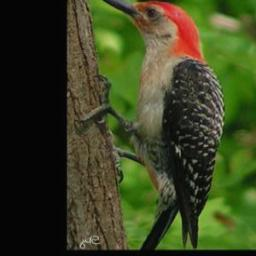Woodpecker: (73, 0, 227, 250)
